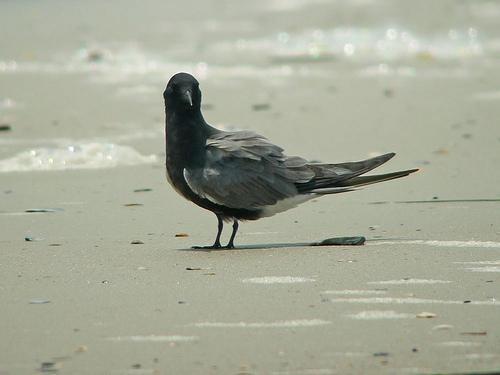bird: (160, 71, 414, 254)
